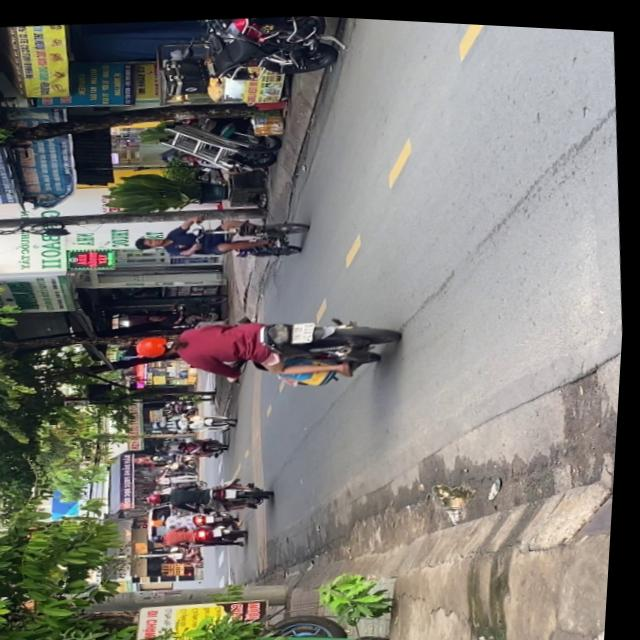helmet: (137, 330, 184, 358)
licenseplate: (131, 294, 405, 400), (133, 199, 318, 273)
motorcyclist: (136, 233, 168, 249)
nohelmet: (293, 317, 318, 340)
